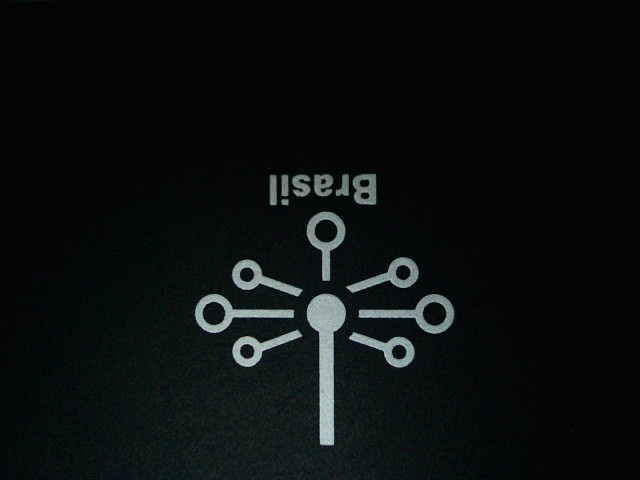BG_Brasil: (169, 143, 500, 462)
